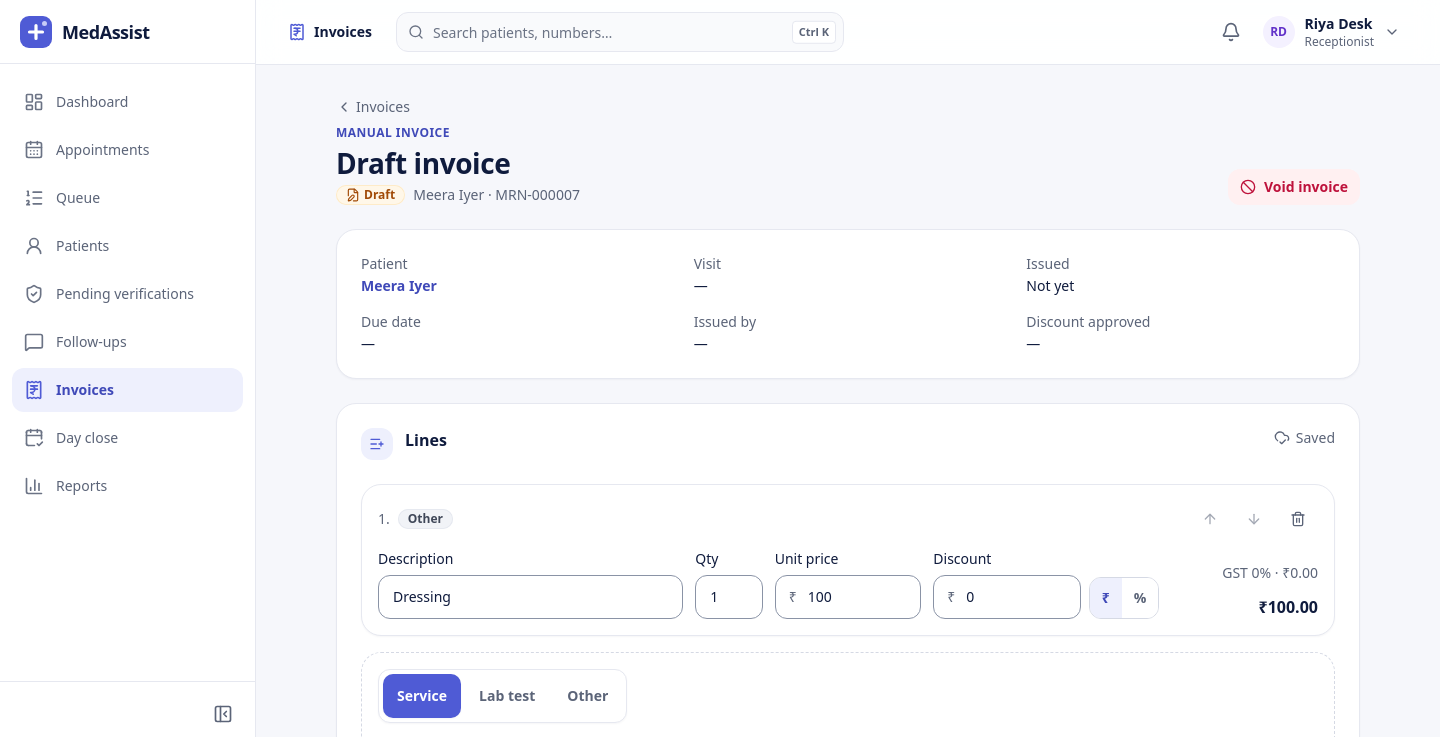
it: draft invoice editor › shows the server totals after saving, not the client preview
Expected: the list named "Invoice lines" is shown, 361,484 -> 1335,636
Replace the text in the field labelled "Discount" with "10" at (1007, 597), box 933,575 -> 1081,619
(page scrolled)
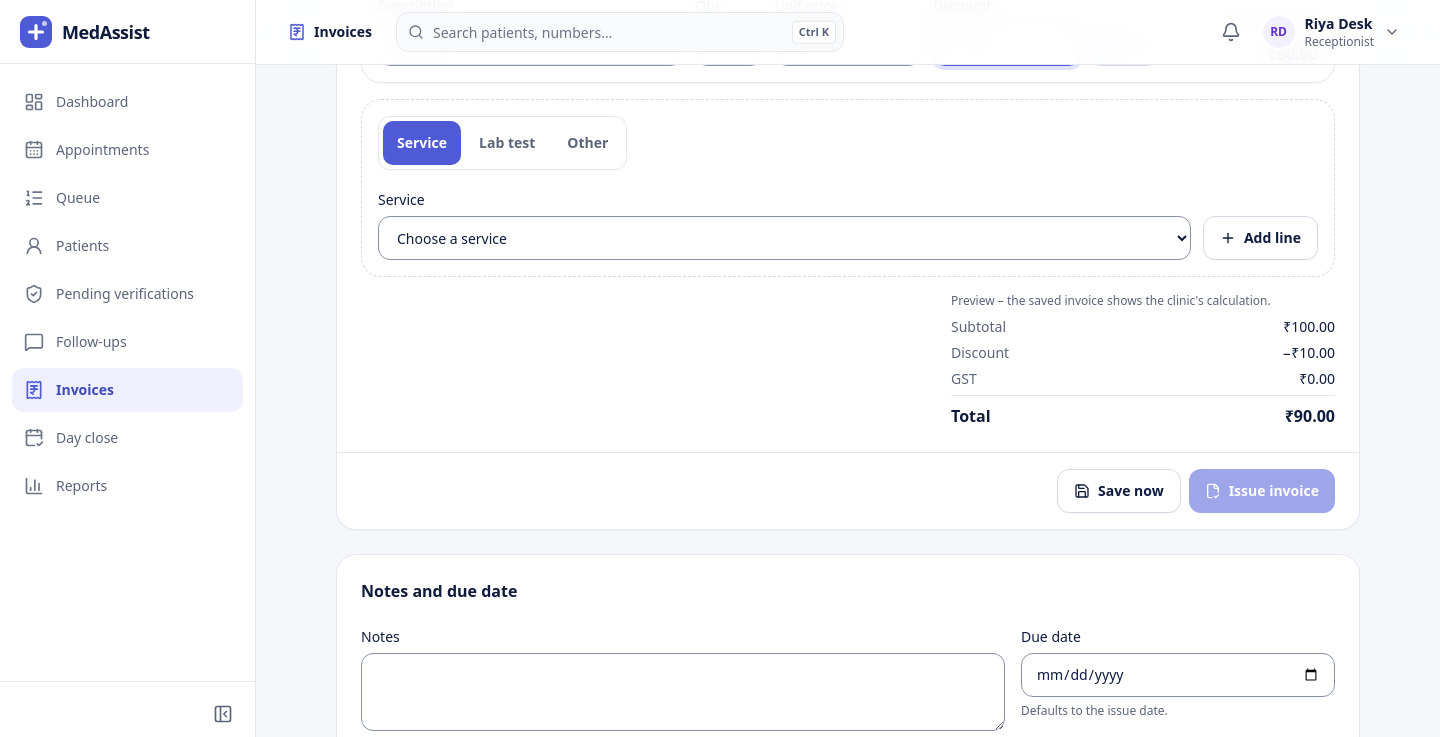
Expected: the text "₹90.00" is shown, 1285,404 -> 1335,428
Click the button "Save now".
click(1119, 491)  # box 1057,469 -> 1181,513
(page scrolled)
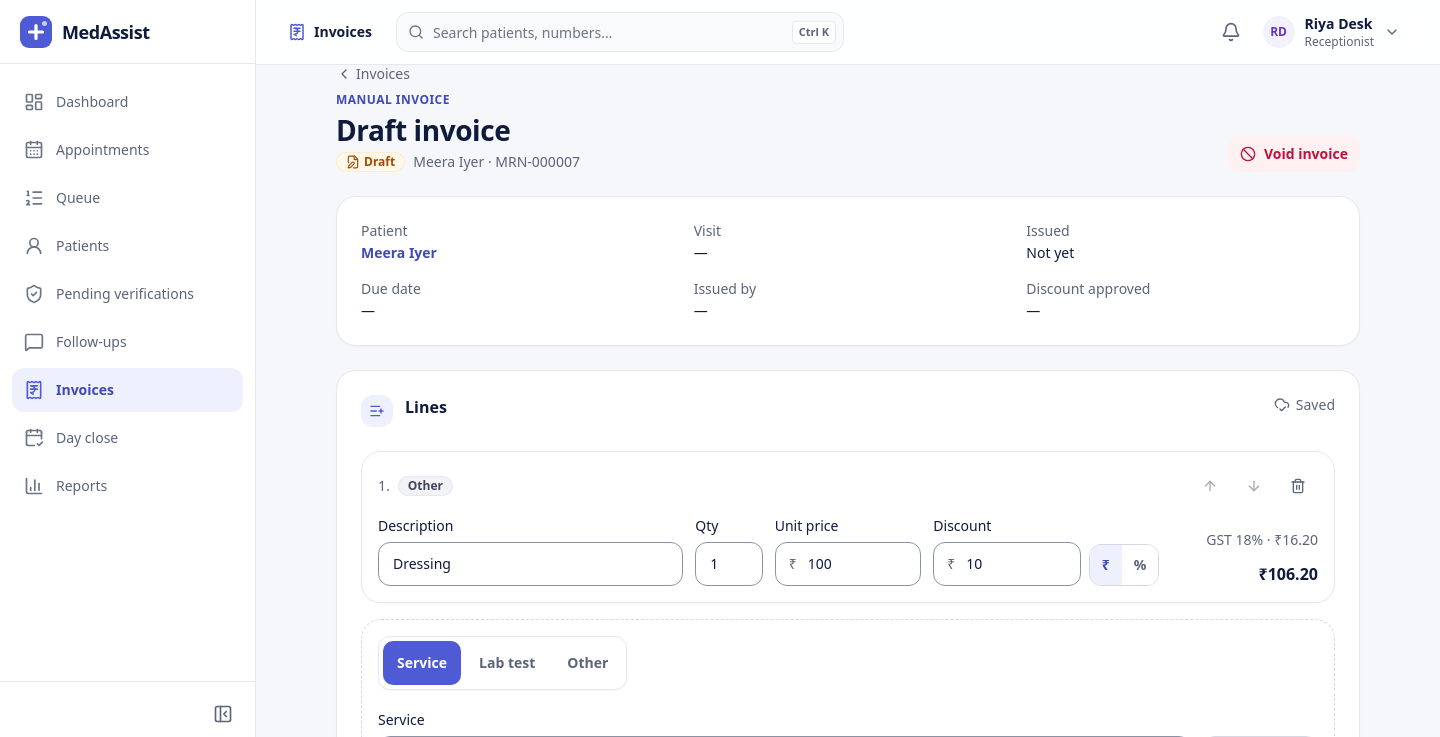
Expected: the message reads "Saved", 1296,395 -> 1335,414
